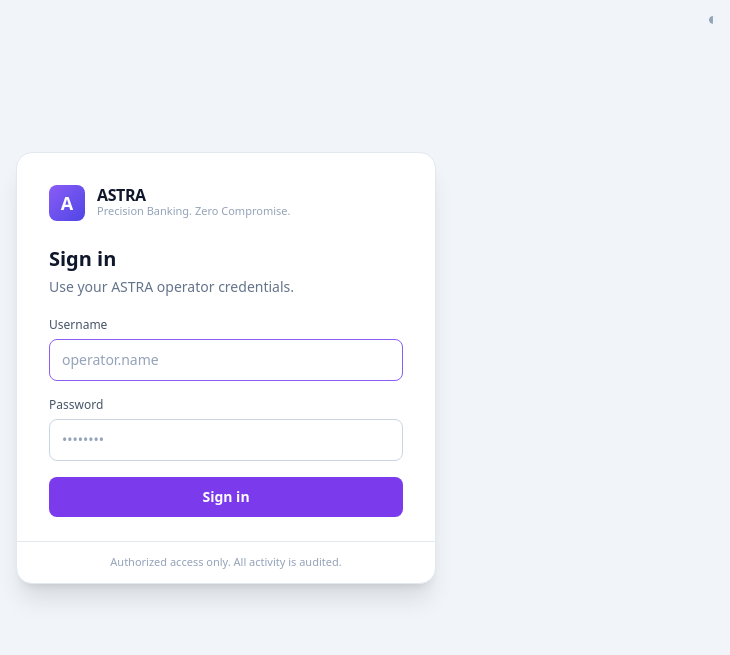
it: LoginPage › shows a lockout message on 423
Step 1. Type "ops1" into the field with placeholder "operator.name" → point(226, 360), box [49,339,403,381]
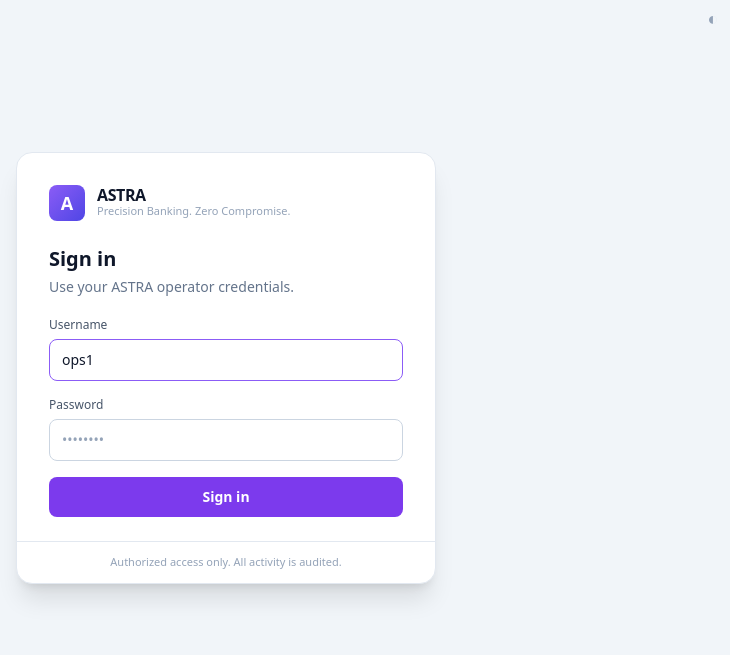
Step 2. Type "pw" into the password field with placeholder "••••••••" → point(226, 440), box [49,419,403,461]
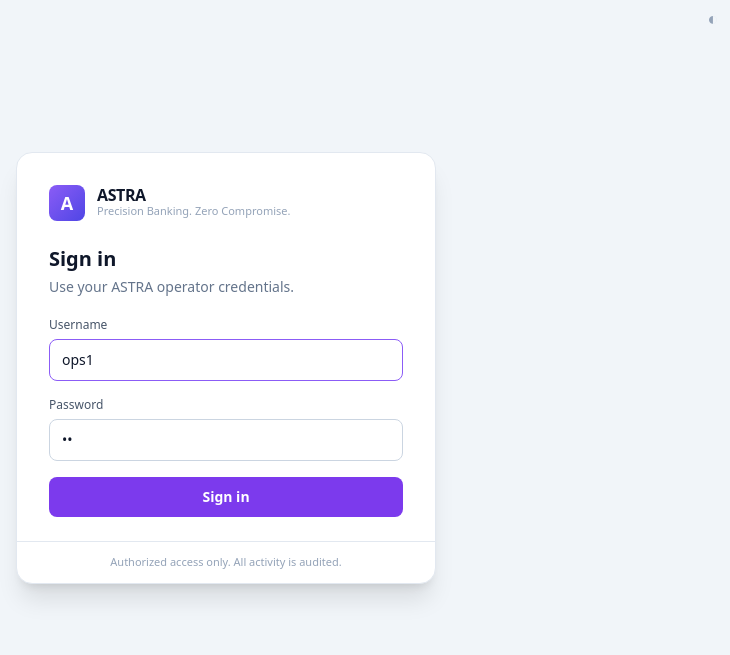
Step 3. Click the button "Sign in" → point(226, 497), box [49,477,403,517]
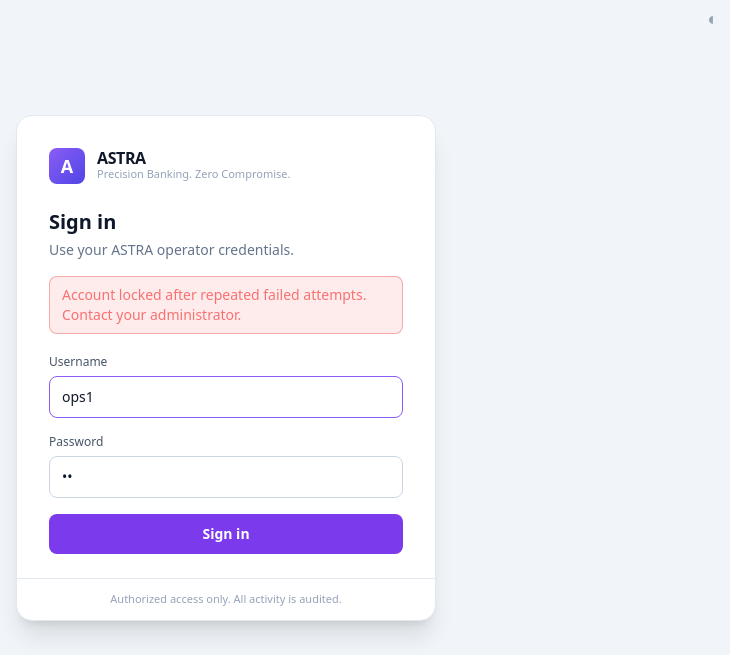
Expected: the text "Account locked" is shown, [62,285,366,324]
